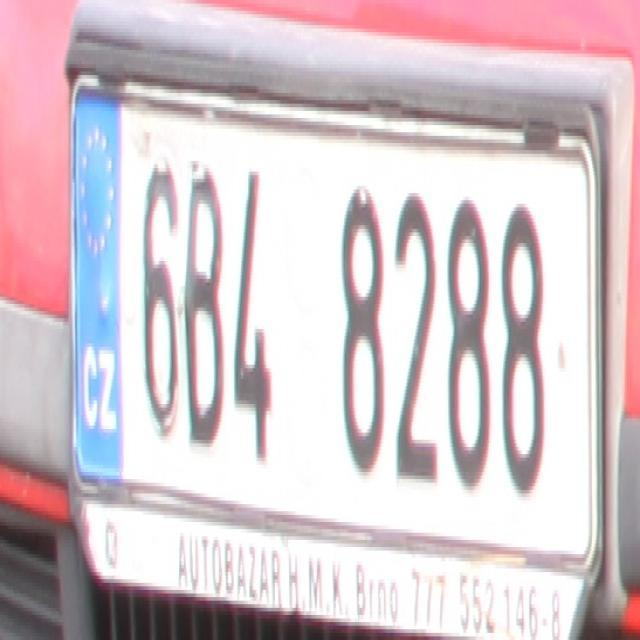2: (396, 189, 436, 472)
4: (227, 168, 274, 483)
6: (140, 157, 180, 433)
8: (449, 193, 492, 493), (343, 182, 385, 479), (503, 208, 544, 500)
B: (182, 143, 226, 447)
